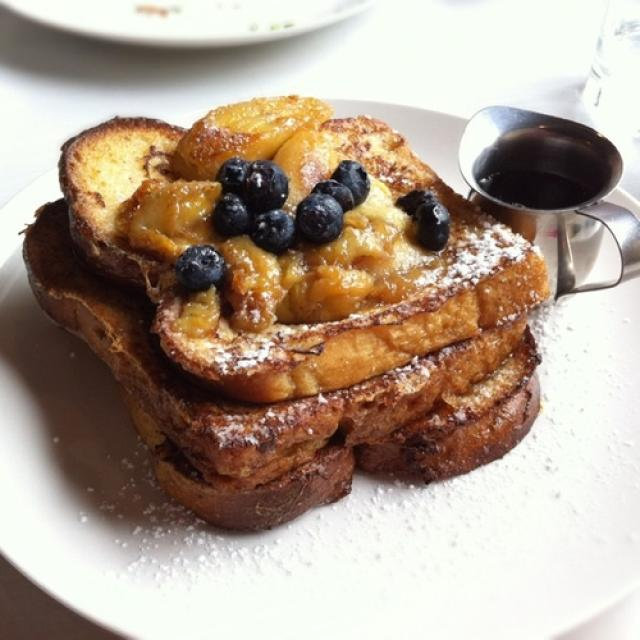面包点心: (9, 18, 631, 621)
